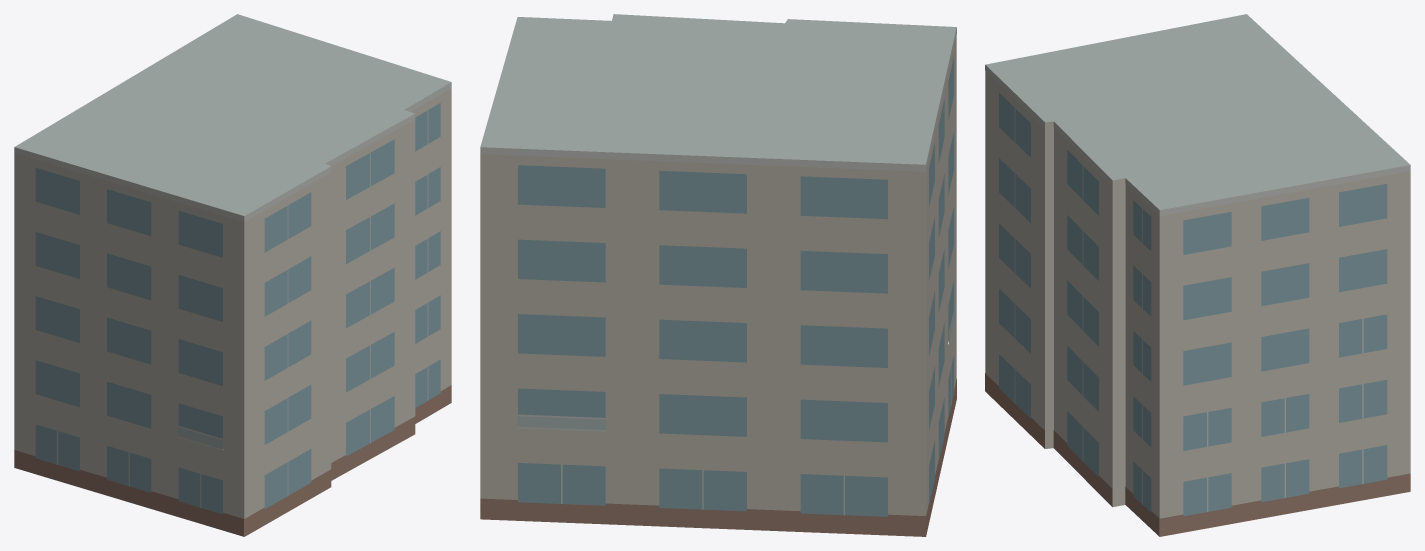
File: survey-upis-32919275.glb
3 views of the same model, side by side, from view 1: azimuth 30°, elevation 25°; view 2: azimuth 150°, elevation 25°; view 3: azimuth 270°, elevation 25° (orthographic). The views are drawn at different scales.
Parts seen in each view (by area): view 1: survey-upis-32919275.tmp; view 2: survey-upis-32919275.tmp; view 3: survey-upis-32919275.tmp.
Boxes of the visible parts, x1,y1,x2,y2 form: survey-upis-32919275.tmp: [14, 14, 451, 536]; survey-upis-32919275.tmp: [480, 14, 956, 536]; survey-upis-32919275.tmp: [985, 14, 1410, 536].
Bounding box in the file's own units: 16.88 × 13.1 × 15.47.
